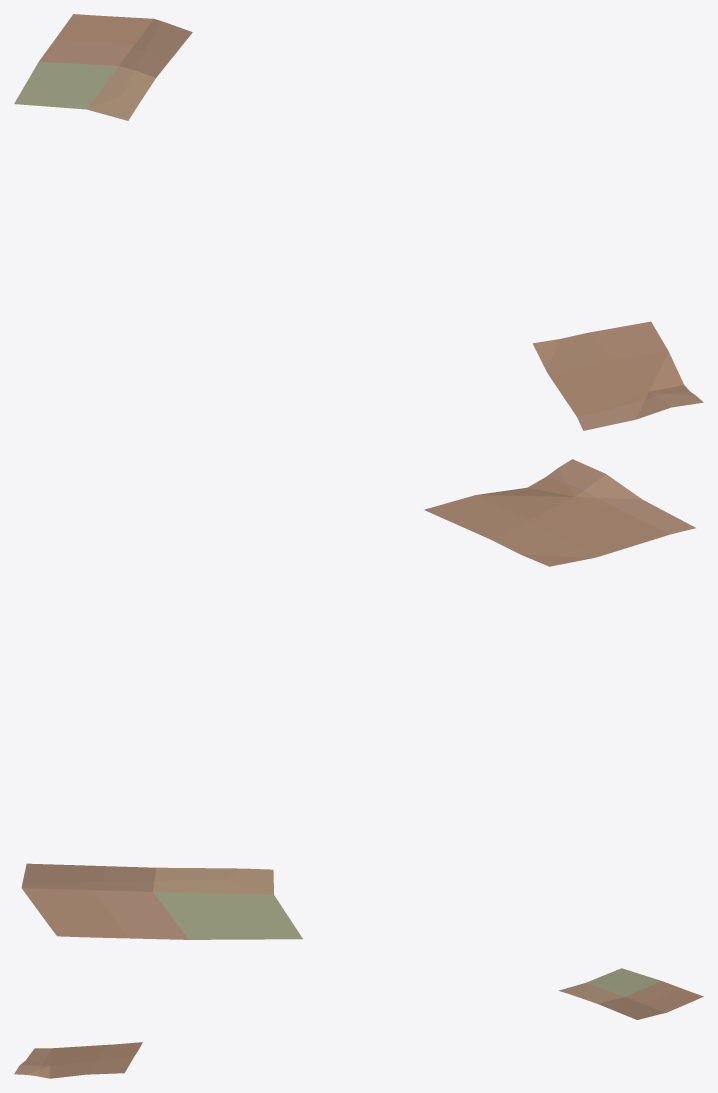
The model's file is farm_-37_-28_soil.glb.
The picture shows the model from 3 angles, top to bottom: view 1: azimuth 30°, elevation 25°; view 2: azimuth 150°, elevation 25°; view 3: azimuth 270°, elevation 25°; orthographic projection. The views are drawn at different scales.
Visible parts, largest first — view 1: geometry_0; view 2: geometry_0; view 3: geometry_0.
Part boxes in pixels (box(x1,y1,x2,y2)): geometry_0: box(14, 14, 703, 430); geometry_0: box(21, 459, 695, 939); geometry_0: box(14, 968, 703, 1078).
Size of the model in its own units: 162 by 37.79 by 513.
